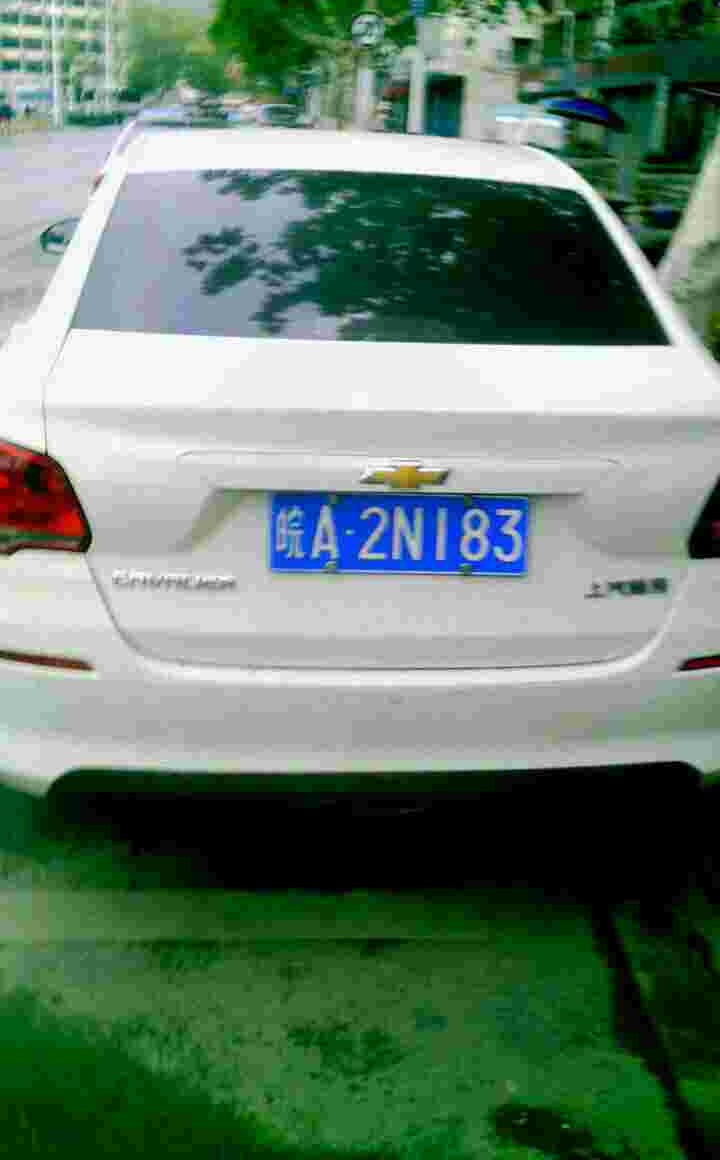license_plate: (261, 491, 529, 582)
